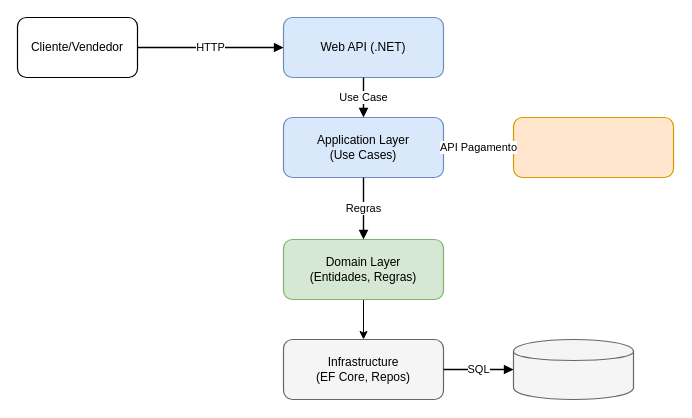
The diagram is 692 pixels wide and 418 high, and some of its shapes have lost their labels. Each missing label, with the box of its shape:
Banco de Dados: (512, 338, 634, 400)
Gateway de Pagamento: (512, 116, 674, 178)
